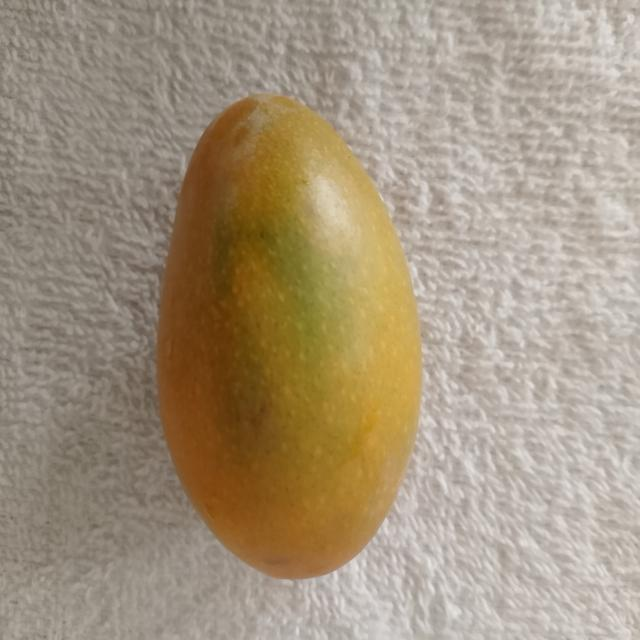mango: (158, 95, 421, 577)
